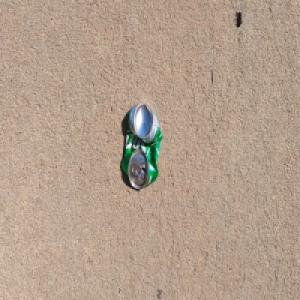SodaCan: (121, 103, 162, 192)
